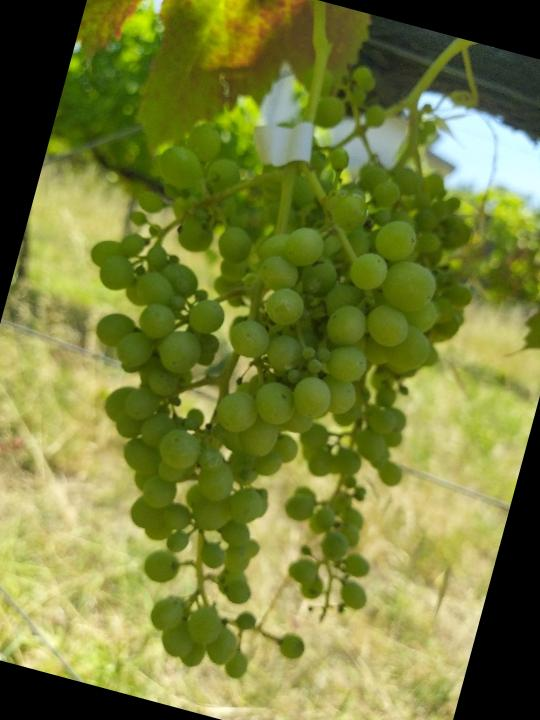grape: (0, 91, 475, 707)
